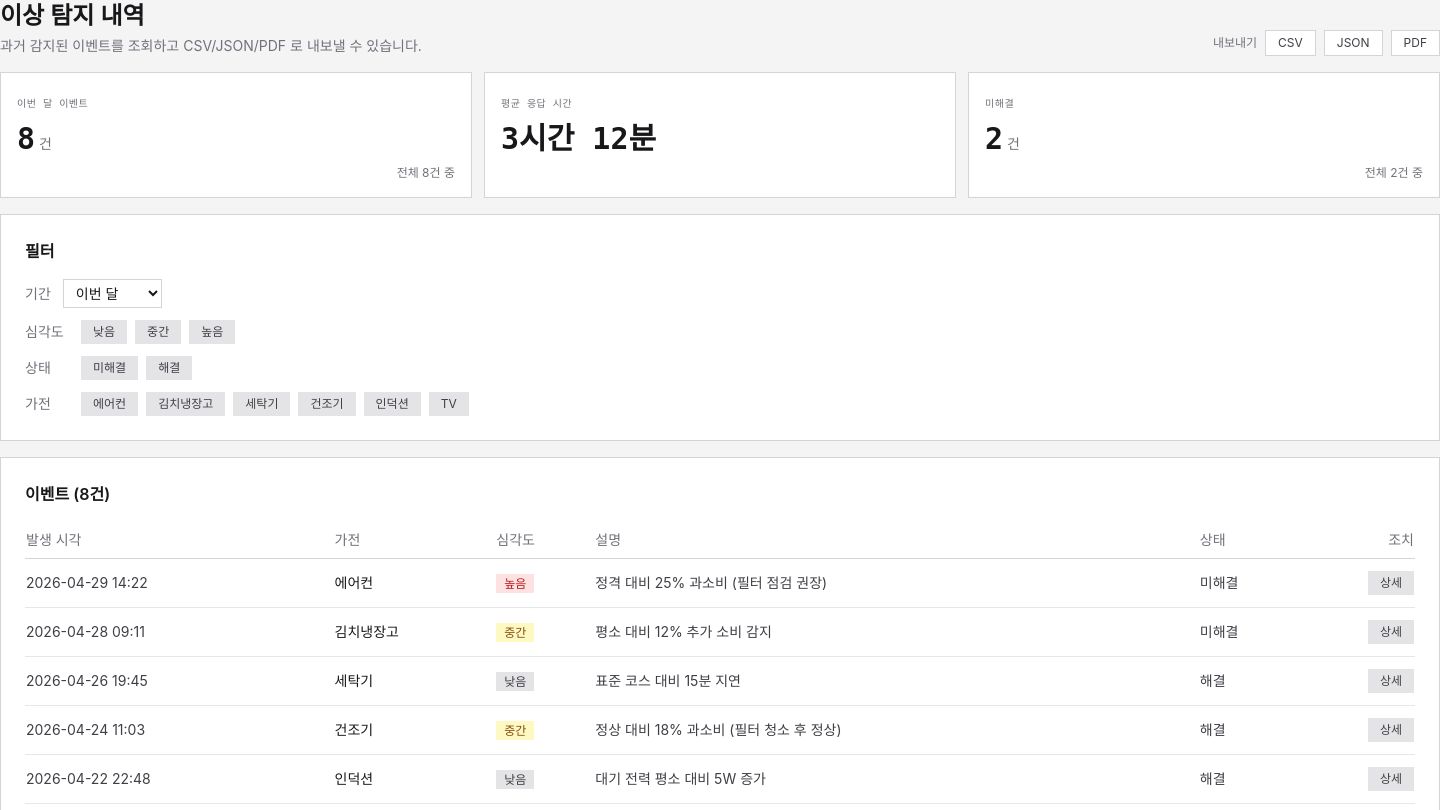
AnomalyLogPage › appliance '에어컨' single-select filter (2 rows), clicking again clears
expect the heading "이벤트 (8건)" is shown: met, box 25,484 -> 110,504
Click the button "에어컨": (110, 404) 81,392 -> 138,416
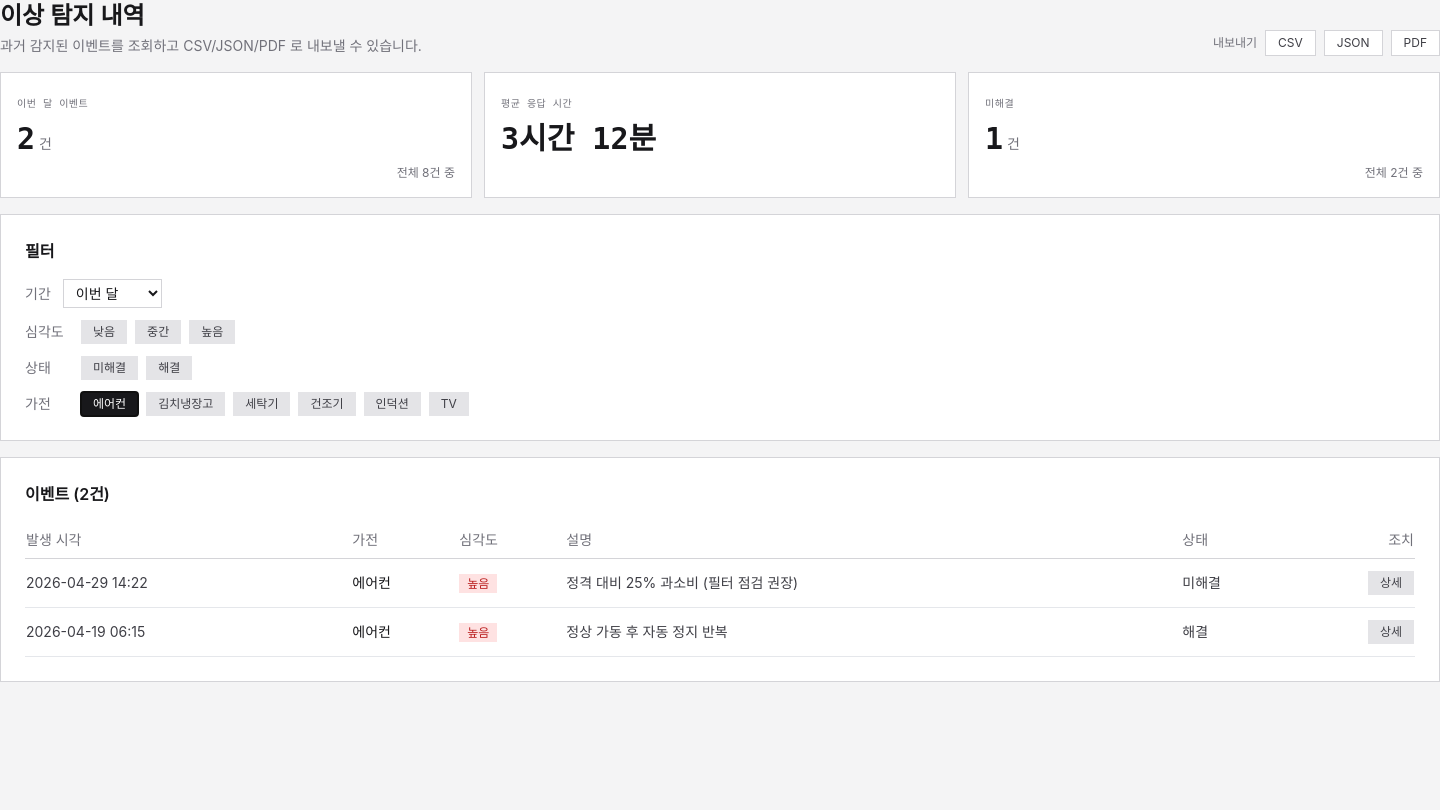
expect the heading "이벤트 (2건)" is shown: met, box 25,484 -> 110,504
Click the button "에어컨": (110, 404) 81,392 -> 138,416
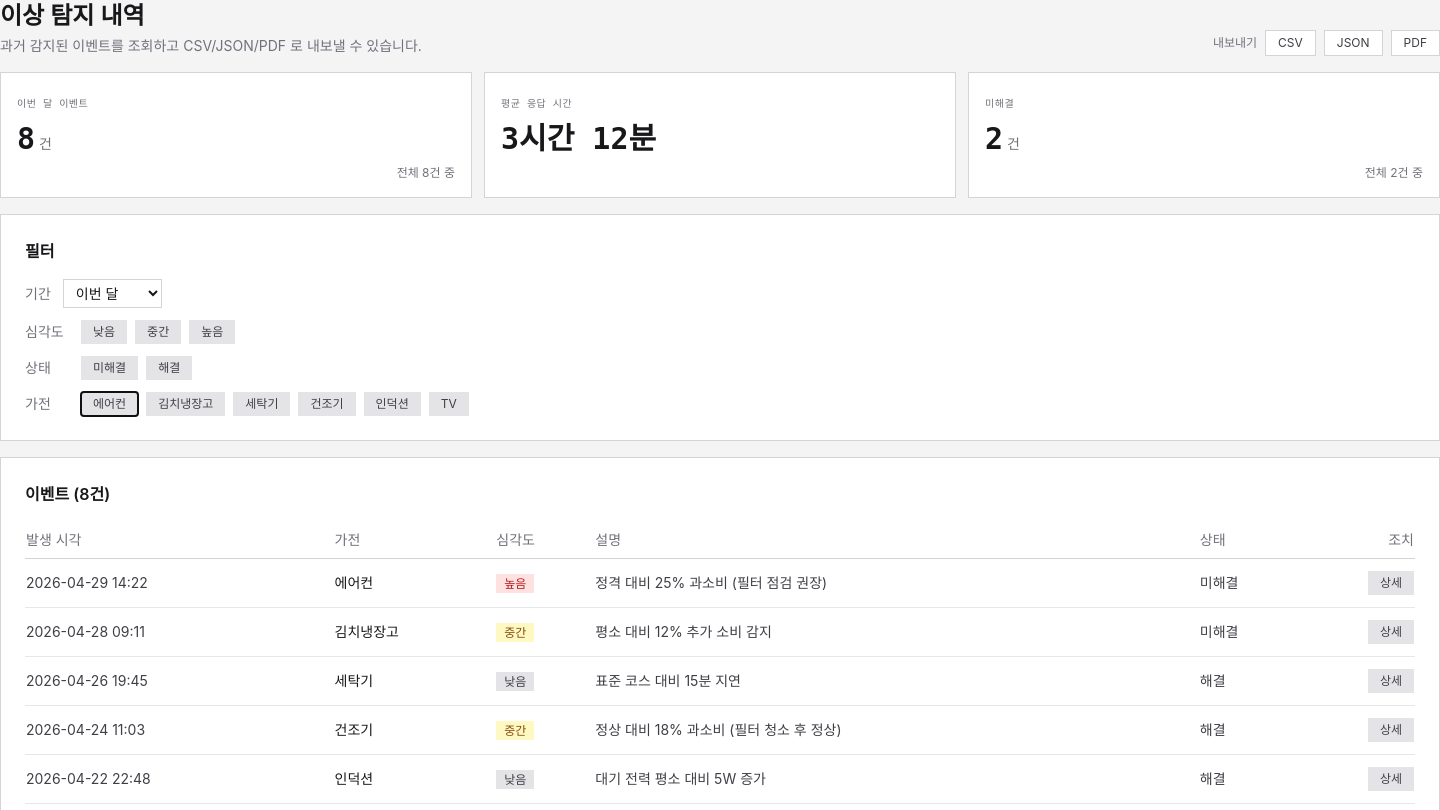
expect the heading "이벤트 (8건)" is shown: met, box 25,484 -> 110,504
